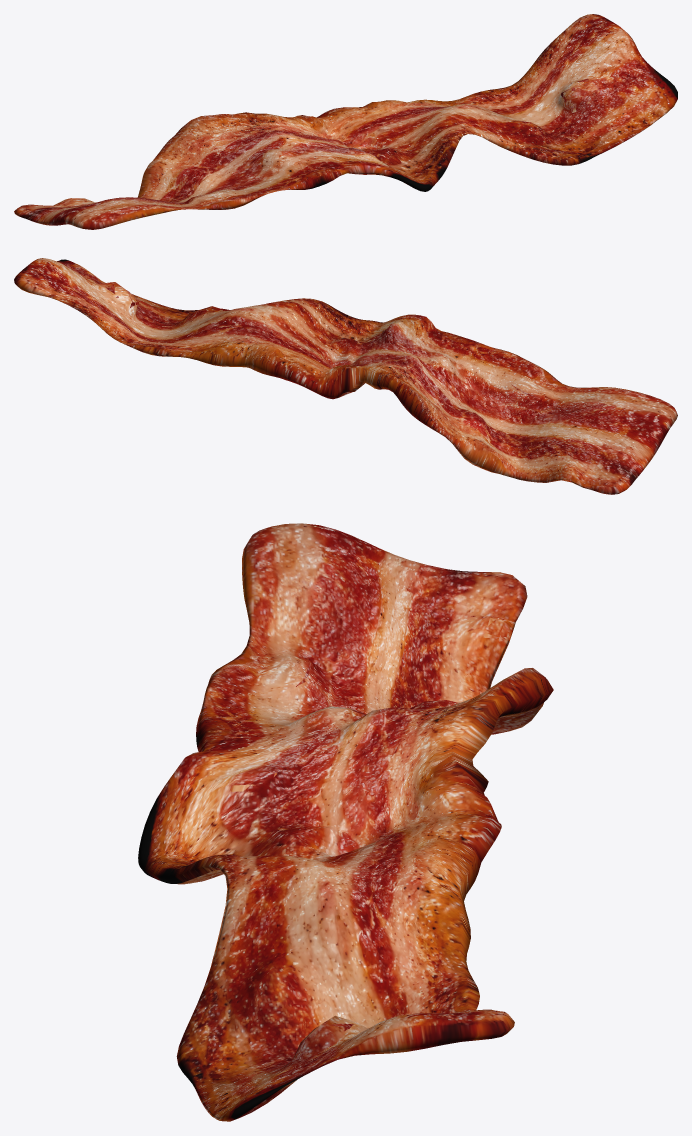
Rendered from bacon.fbx.
The picture shows the model from 3 angles, top to bottom: view 1: azimuth 30°, elevation 25°; view 2: azimuth 150°, elevation 25°; view 3: azimuth 270°, elevation 25°; orthographic projection. The views are drawn at different scales.
Visible parts, largest first — view 1: Bacon; view 2: Bacon; view 3: Bacon.
Boxes of the visible parts, x1,y1,x2,y2 form: Bacon: [14, 14, 677, 229]; Bacon: [14, 258, 677, 494]; Bacon: [138, 523, 553, 1121].
Bounding box in the file's own units: 48.28 × 6.21 × 14.54.
Materials: 1 (1 with a texture image).
